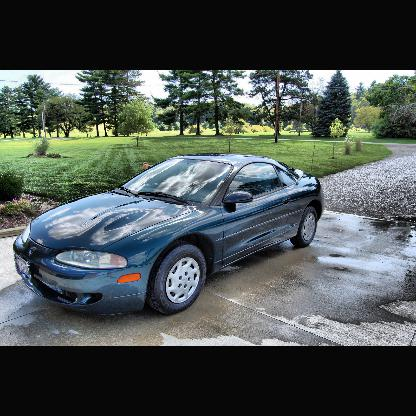Eagle Talon Hatchback 1998: (13, 152, 325, 315)
